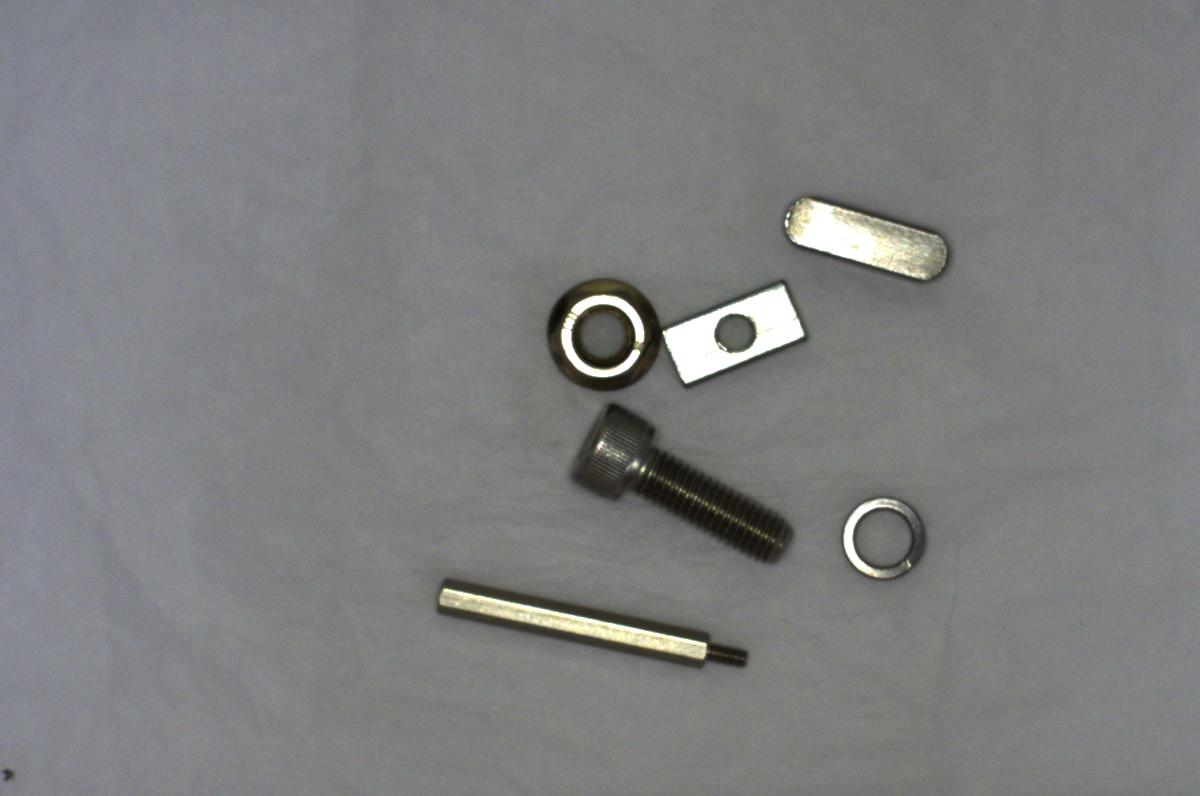Flange nut: (537, 272, 660, 395)
Hexagon screw: (565, 403, 793, 567)
Hexagonal steel column: (430, 568, 753, 683)
Keybar: (765, 182, 951, 291)
Rectangular nut: (658, 271, 803, 387)
Spring washer: (828, 486, 947, 595)
